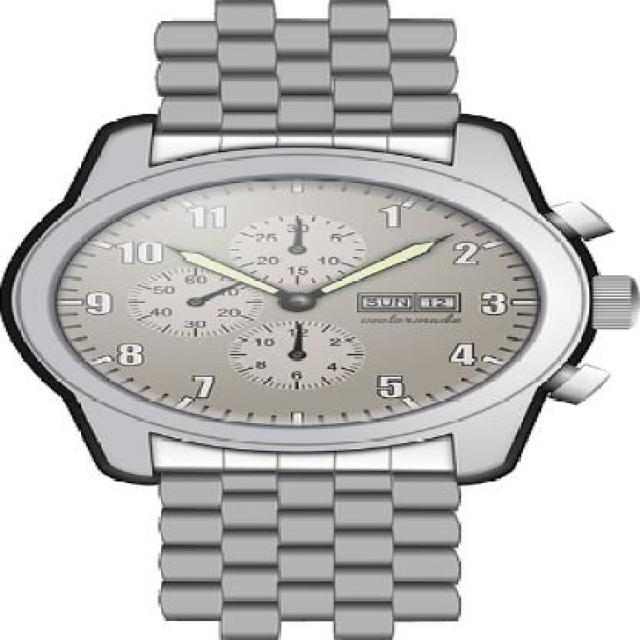clock: (53, 176, 549, 426)
